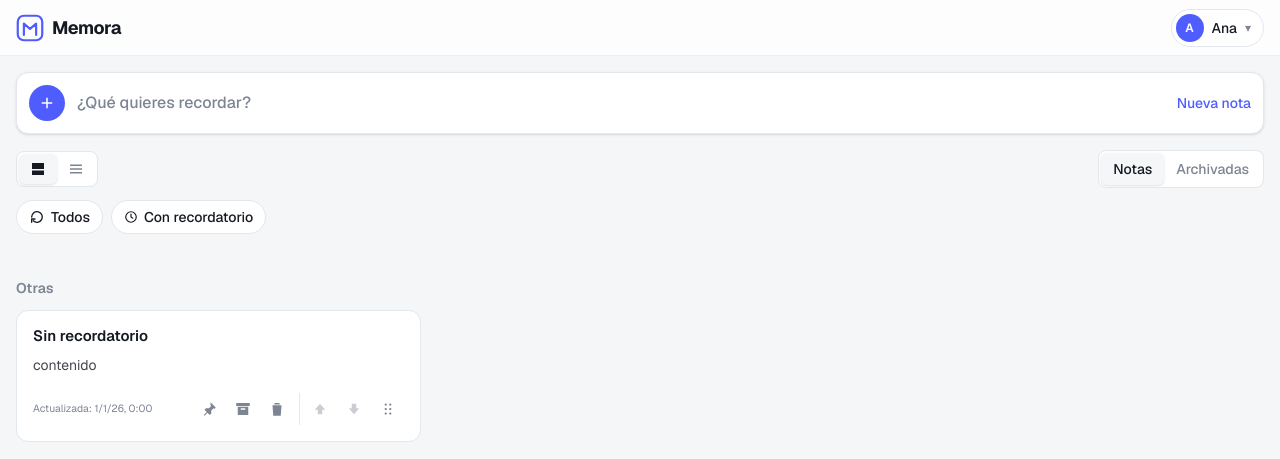
it: NotesPage · filtros › muestra el vacío del filtro con prioridad sobre el del panel (RF-10)
This screenshot has width=1280, height=459.
expect the heading "Sin recordatorio" is shown: met, box [33,326,148,345]
Click the button "Con recordatorio".
click(189, 217)  # box [111,200,266,234]
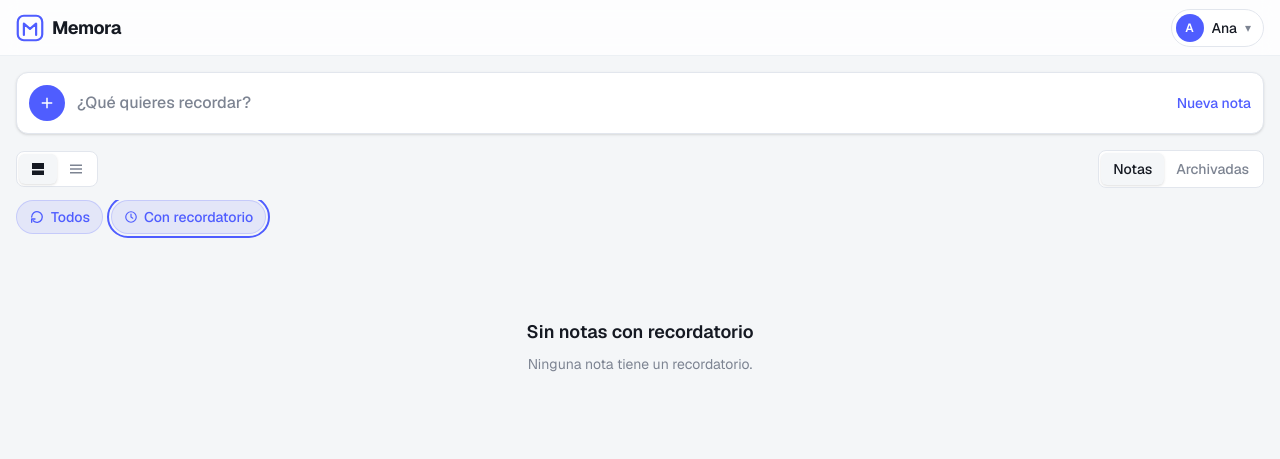
expect the text "Sin notas con recordatorio" is shown: met, box [526,318,754,346]
